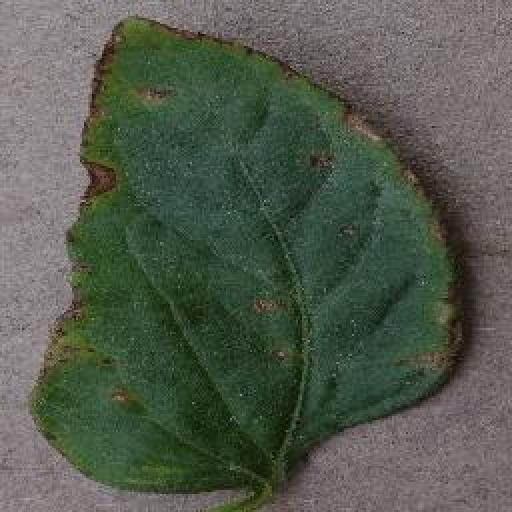Bacterial Spot: (24, 12, 477, 502)
